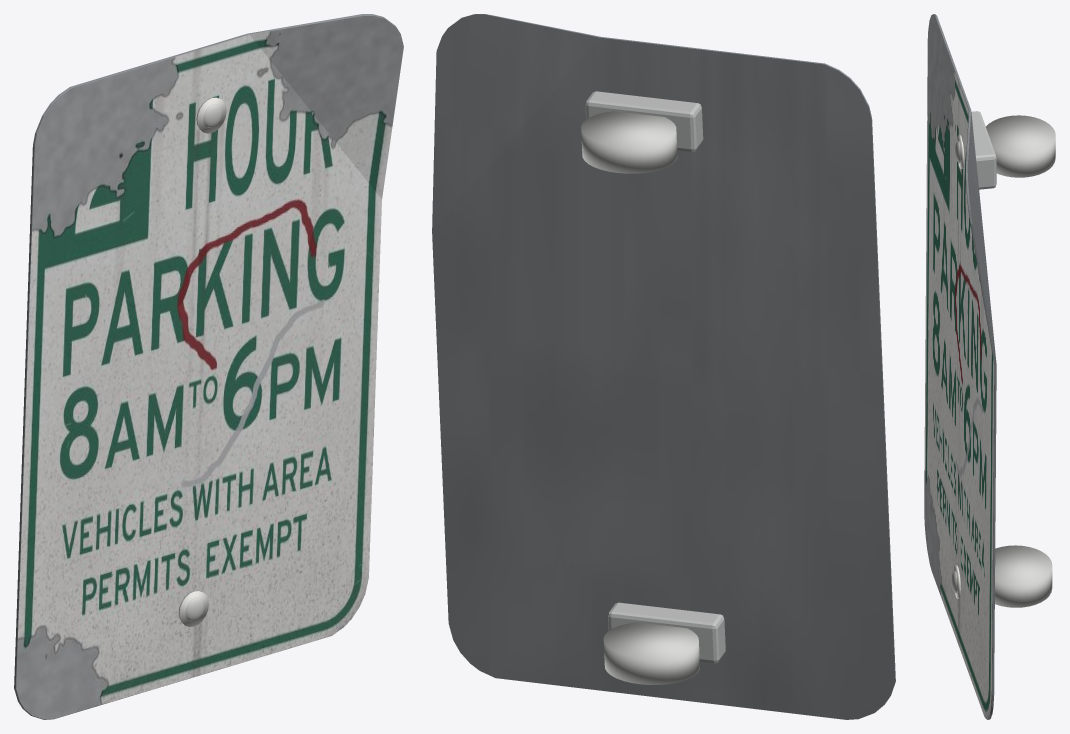
Rendered from permitParking-v1-battered.glb.
The picture shows the model from 3 angles, left to right: view 1: azimuth 30°, elevation 25°; view 2: azimuth 150°, elevation 25°; view 3: azimuth 270°, elevation 25°; orthographic projection. The views are drawn at different scales.
Parts seen in each view (by area): view 1: permitParking-v1-battered; view 2: permitParking-v1-battered; view 3: permitParking-v1-battered.
Part boxes in pixels (x1,y1,x2,y2): permitParking-v1-battered: [14, 14, 403, 719]; permitParking-v1-battered: [432, 14, 895, 719]; permitParking-v1-battered: [924, 14, 1055, 719].
Bounding box in the file's own units: 0.3692 × 0.5437 × 0.1128.
1 material, 1 textured.
